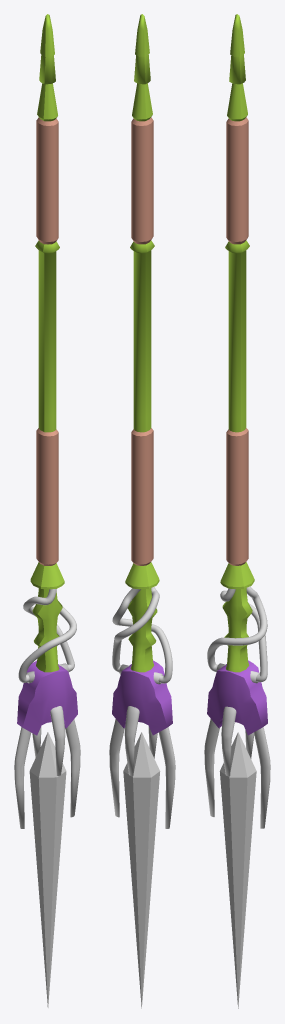
The model's file is HHJavelin.fbx.
3 renders of one model, left to right at view 1: azimuth 30°, elevation 25°; view 2: azimuth 150°, elevation 25°; view 3: azimuth 330°, elevation 25°, orthographic.
Visible parts, largest first — view 1: HeadHunterJavelin; view 2: HeadHunterJavelin; view 3: HeadHunterJavelin.
Boxes of the visible parts, left/top/right/bottom form: HeadHunterJavelin: left=14, top=14, right=80, bottom=1007; HeadHunterJavelin: left=109, top=14, right=175, bottom=1008; HeadHunterJavelin: left=204, top=14, right=270, bottom=1008.
Size of the model in its own units: 0.2015 by 0.163 by 2.91.
